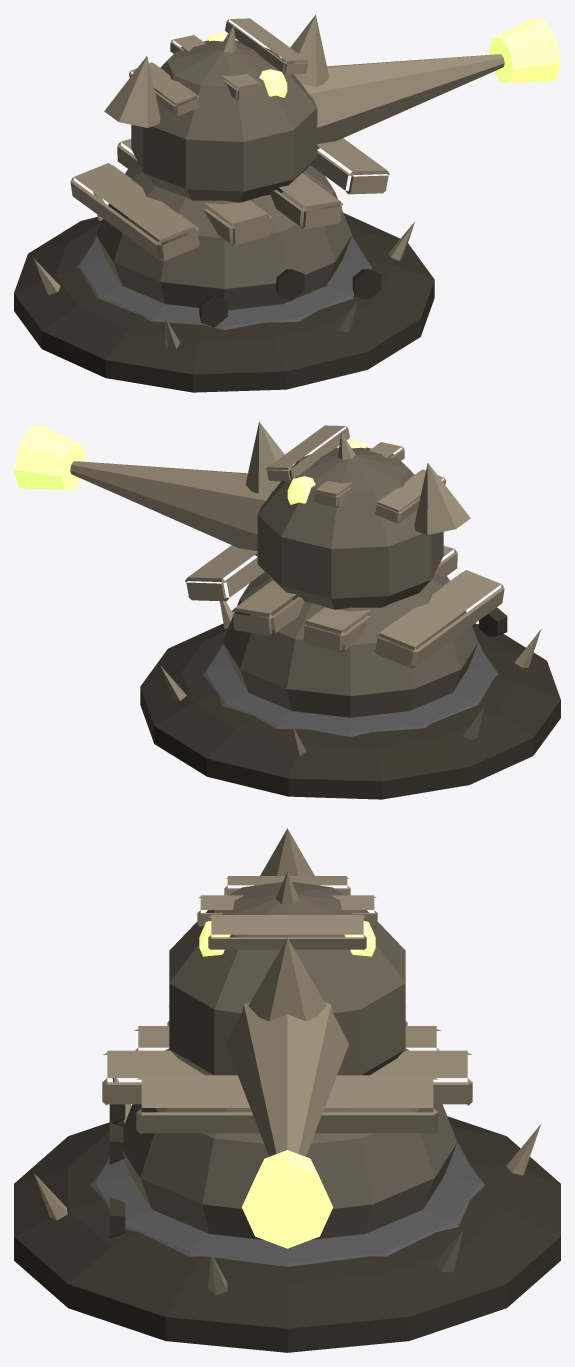
File: bl_maw.glb
3 views of the same model, one above another, from view 1: azimuth 30°, elevation 25°; view 2: azimuth 150°, elevation 25°; view 3: azimuth 270°, elevation 25° (orthographic). The views are drawn at different scales.
Parts seen in each view (by area): view 1: body, turret; view 2: body, turret; view 3: body, turret.
Boxes of the visible parts, left/top/right/bottom form: body: left=14, top=138, right=434, bottom=392; turret: left=104, top=14, right=560, bottom=202; body: left=140, top=545, right=560, bottom=799; turret: left=14, top=421, right=470, bottom=609; body: left=14, top=1006, right=560, bottom=1352; turret: left=169, top=828, right=405, bottom=1248.
Size of the model in its own units: 56.59 by 33.3 by 40.15.
